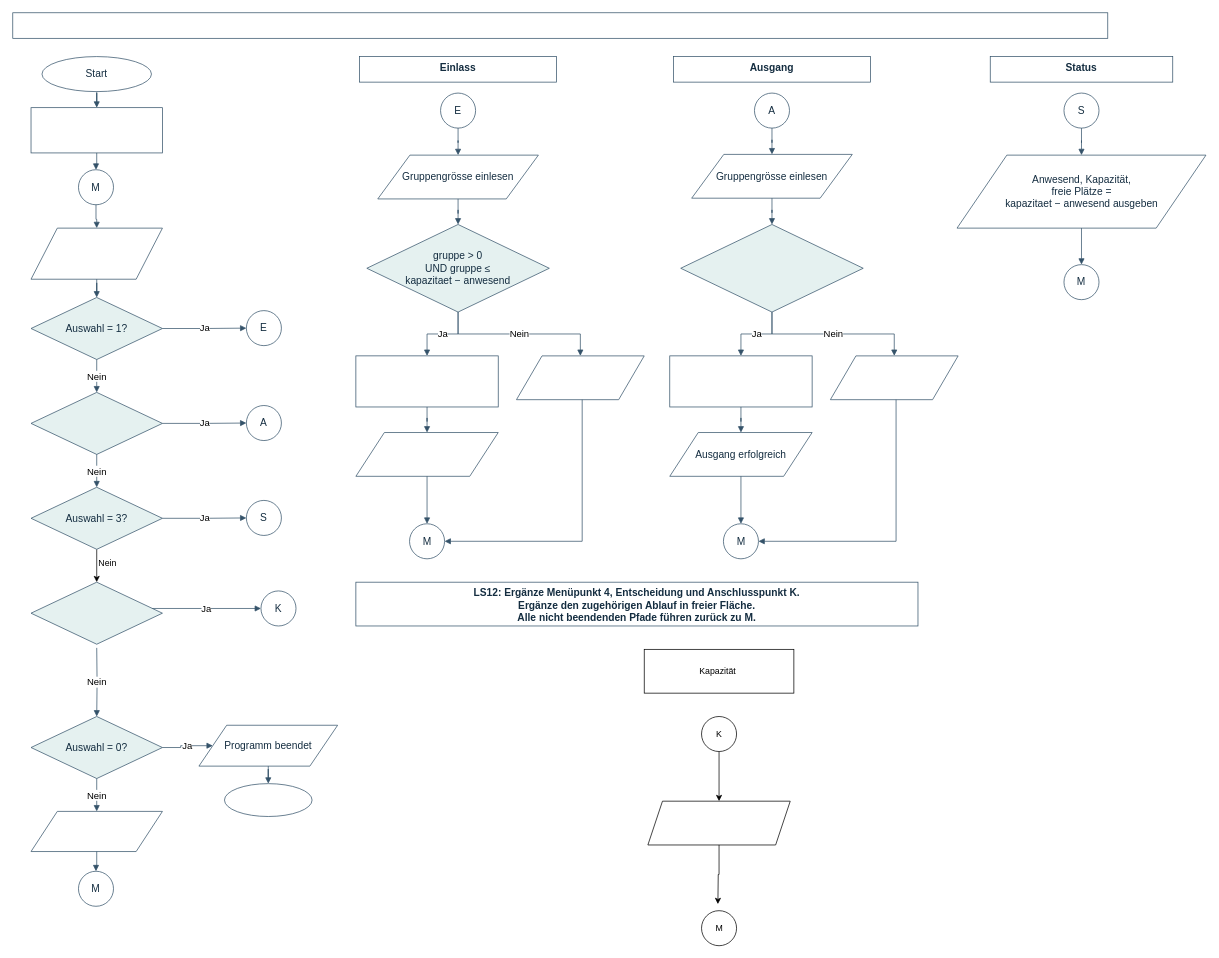
Some shapes in this 1219 by 958 pixel diagram are drawn without their labels. Here are the shapes that lost their labels. From the top down, the centre of each, then its label:
At pixel 560 25: "PAP · Campus-Kontrollzentrum 1.0 · zusammengehörige Anschlusspunkte M, E, A, S".
At pixel 96 130: "anwesend = 0 kapazitaet = 12".
At pixel 96 253: "Menü anzeigen Auswahl einlesen".
At pixel 771 268: "gruppe > 0 UND gruppe ≤ anwesend".
At pixel 426 381: "anwesend = anwesend + gruppe".
At pixel 580 377: "Einlass abgelehnt".
At pixel 740 381: "anwesend = anwesend − gruppe".
At pixel 894 377: "Ausgang abgelehnt".
At pixel 96 423: "Auswahl = 2?".
At pixel 426 454: "Einlass erfolgreich".
At pixel 96 612: "Auswahl = 4?".
At pixel 268 800: "Ende".
At pixel 96 831: "Ungültige Auswahl".
At pixel 718 822: "Neue Kapazität freie Plätze = neueKapazität - anwesend ausgeben".
